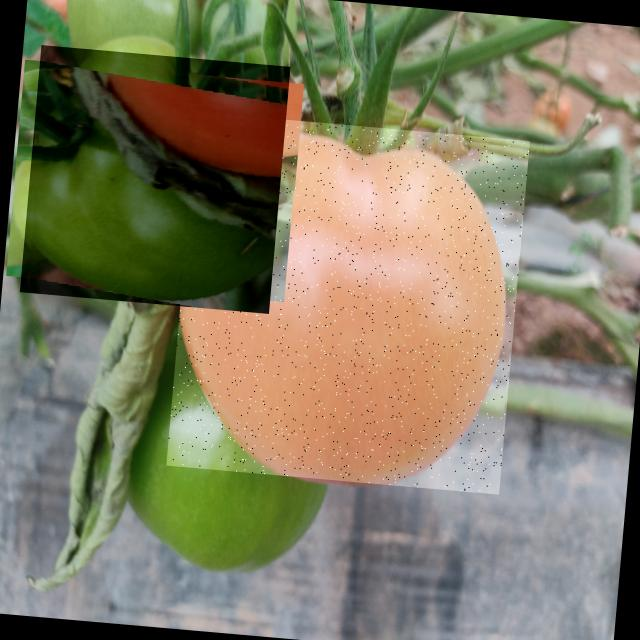Ripe Tomato: (166, 112, 530, 494)
Unripe Tomato: (19, 44, 290, 314)
